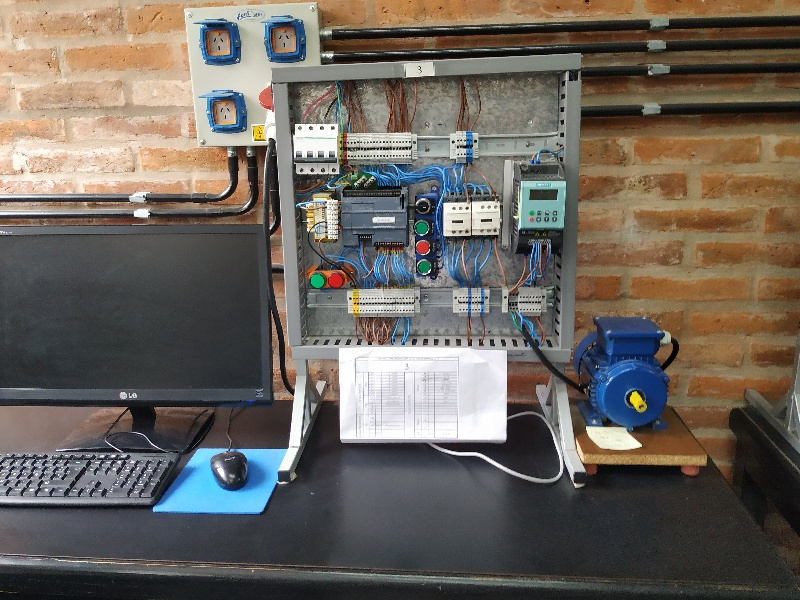Tablero 3: (280, 72, 571, 354)
